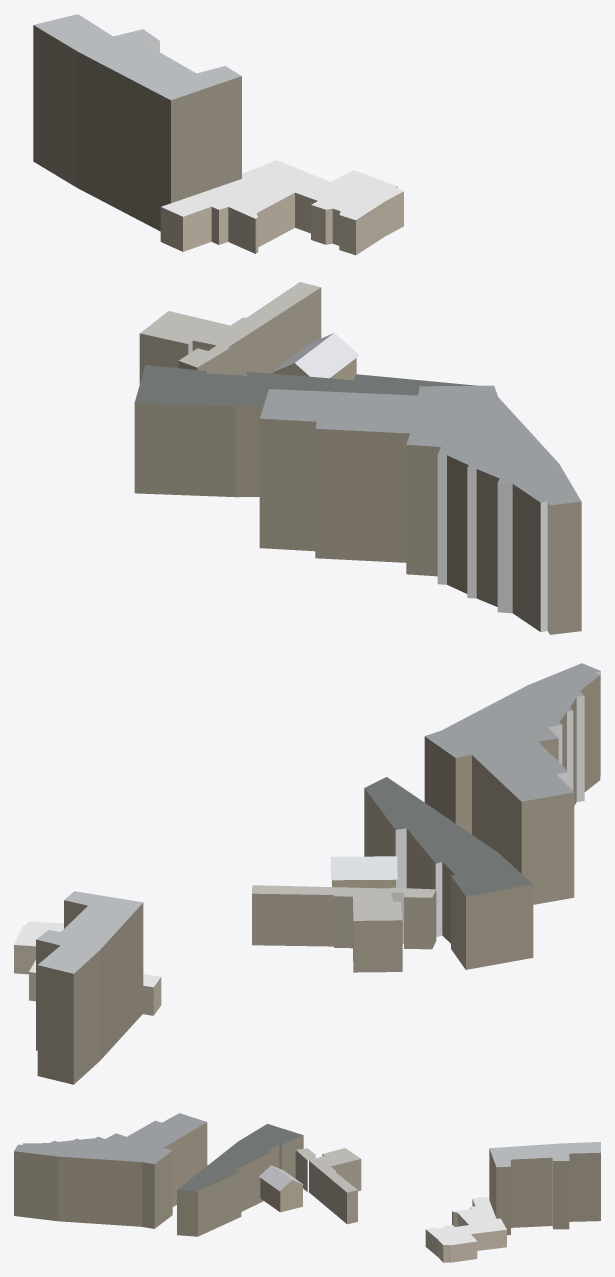
3 renders of one model, top to bottom at view 1: azimuth 30°, elevation 25°; view 2: azimuth 150°, elevation 25°; view 3: azimuth 270°, elevation 25°, orthographic. The views are drawn at different scales.
Visible parts, largest first — view 1: tuile; view 2: tuile; view 3: tuile.
Part boxes in pixels (box(x1,y1,x2,y2)): tuile: box(33, 14, 581, 634); tuile: box(14, 663, 600, 1084); tuile: box(14, 1113, 600, 1262).
Bounding box in the file's own units: 82.7 × 29.74 × 189.
